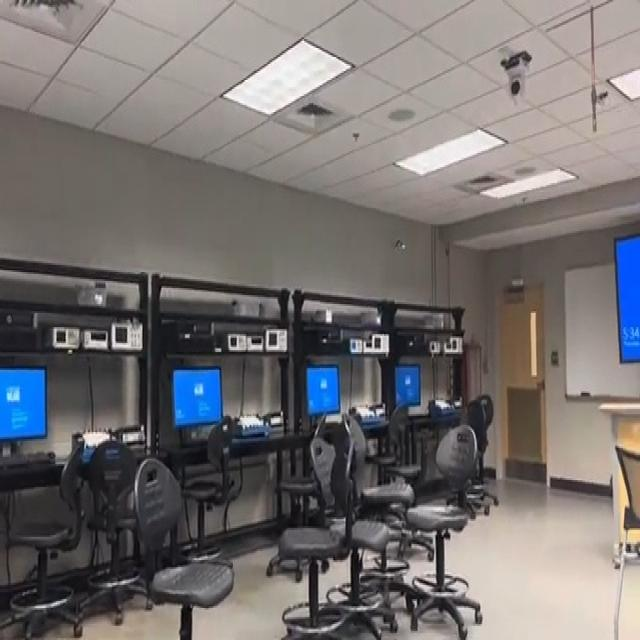drone: (379, 225, 416, 265)
